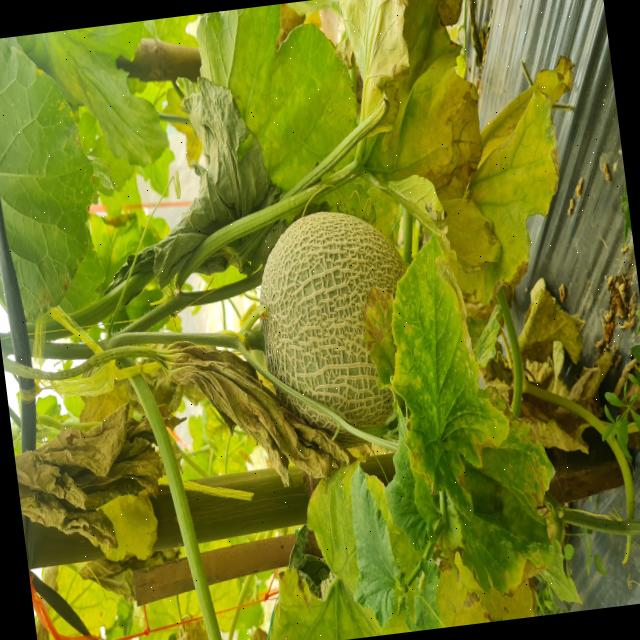melon: (260, 210, 405, 427)
